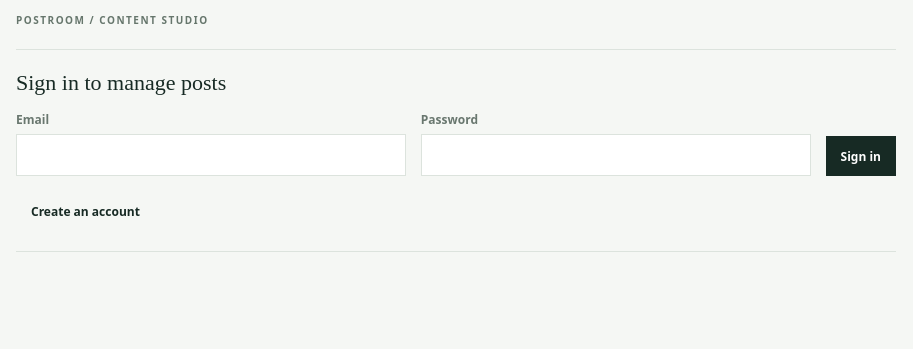
Test: AuthForm › switches from sign-in to account creation
The width and height of the screenshot is (913, 349).
Click the button "Create an account" at (85, 211), box [16, 191, 155, 231]
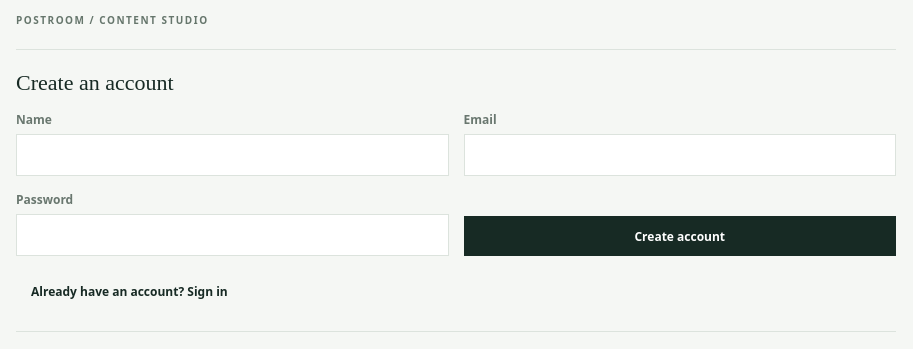
Expected: the heading "Create an account" is shown, [16, 70, 174, 95]
Expected: the button "Create account" is shown, [464, 216, 896, 256]
